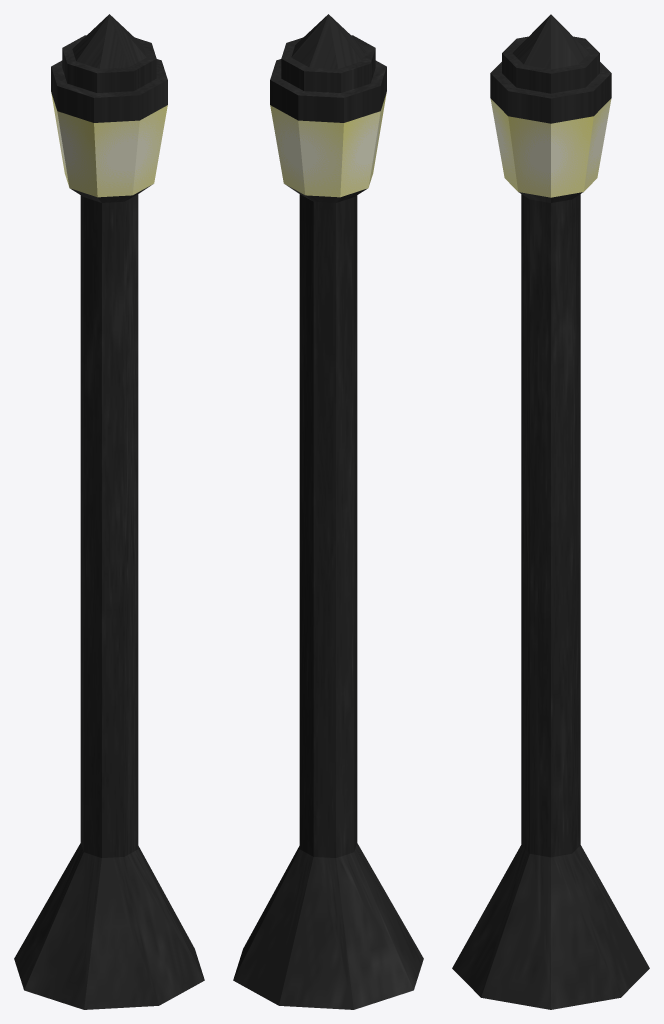
File: Luminaria.fbx
3 views of the same model, side by side, from view 1: azimuth 30°, elevation 25°; view 2: azimuth 150°, elevation 25°; view 3: azimuth 270°, elevation 25° (orthographic).
Visible parts, largest first — view 1: Cylinder.001; view 2: Cylinder.001; view 3: Cylinder.001.
Part boxes in pixels (x1,y1,x2,y2): Cylinder.001: (14,14,204,1009); Cylinder.001: (233,14,423,1009); Cylinder.001: (452,14,649,1009).
Size of the model in its own units: 161 by 859 by 161.
2 materials, 2 textured.
